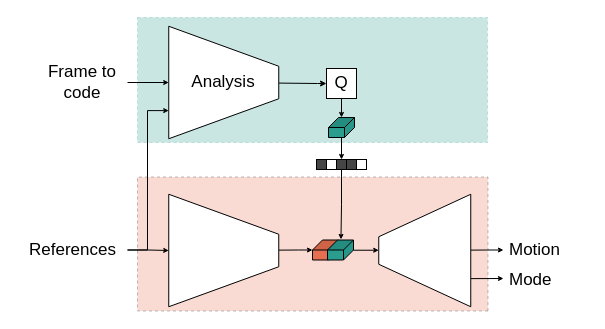
The diagram is 605 pixels wide and 329 high, and some of its shapes have lost their labels. Each missing label, with the centre of its shape:
"Conditioning" goes at point (223, 250).
"Synthesis" goes at point (424, 250).
